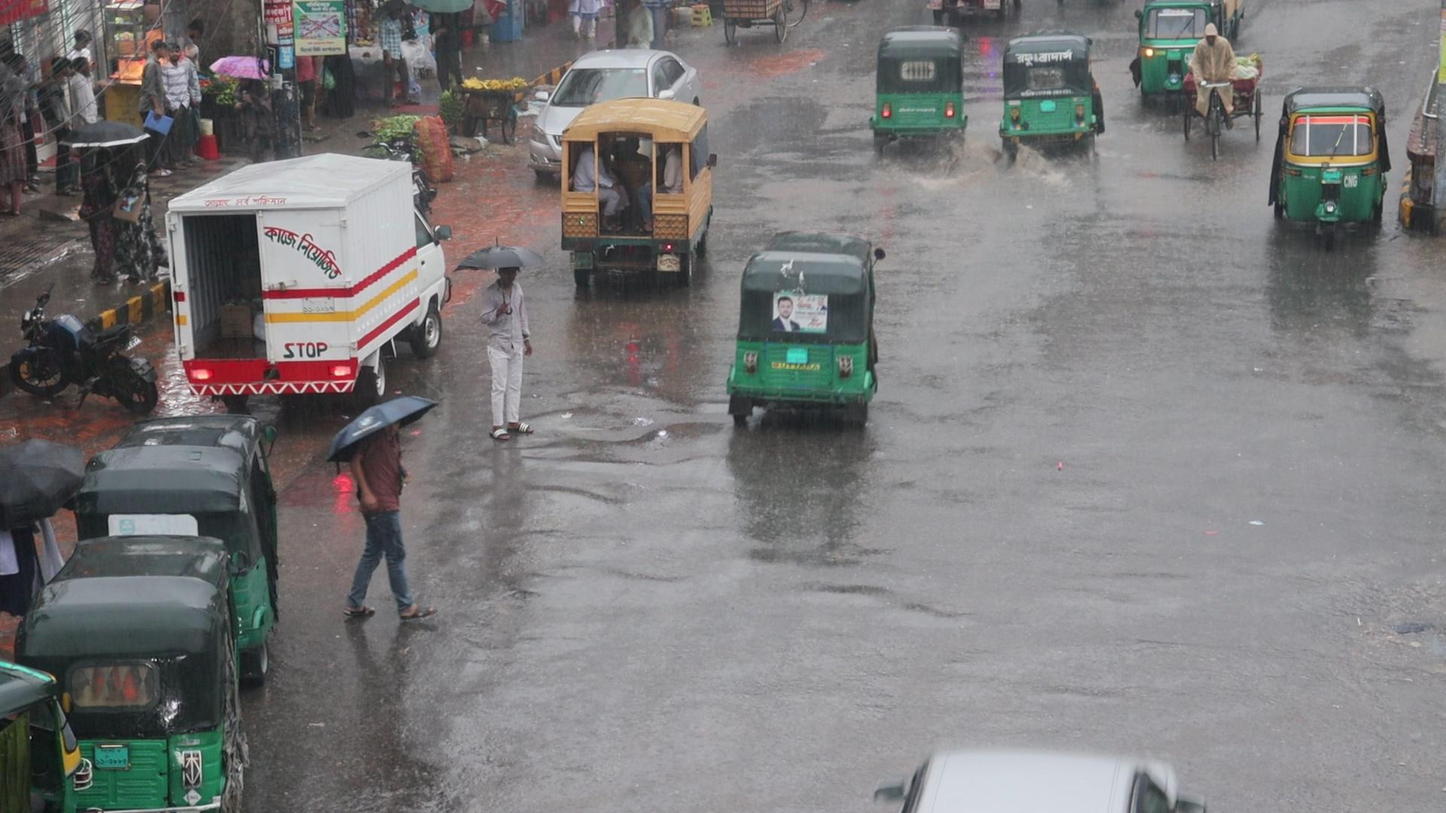Truck: (557, 93, 718, 287)
